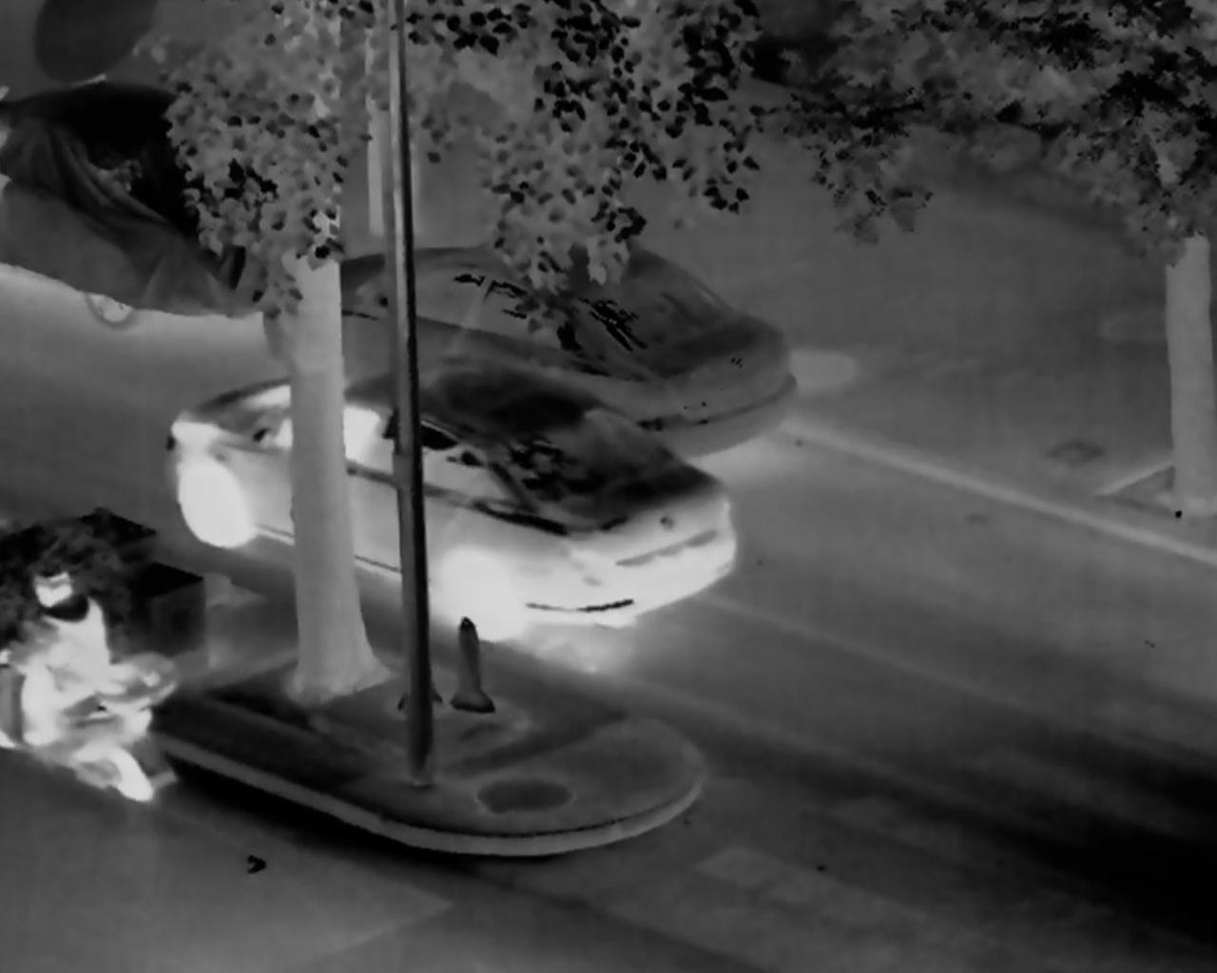person: (16, 559, 112, 754)
